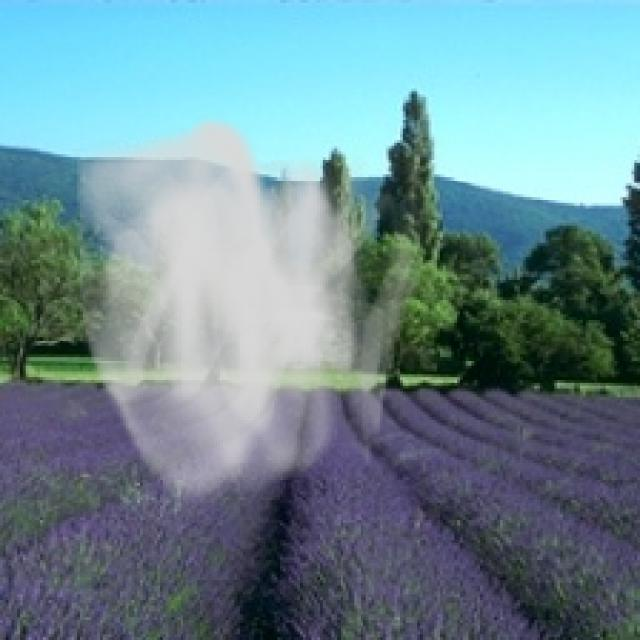smoke: (66, 114, 428, 514)
